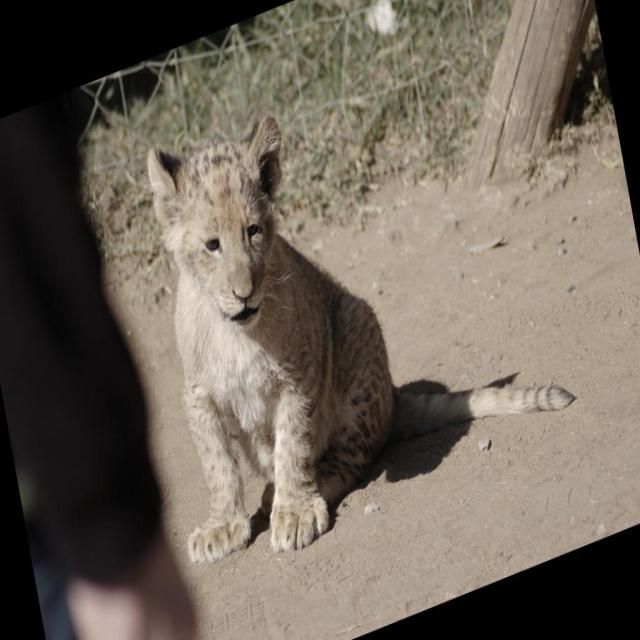Lion: (120, 3, 583, 589)
